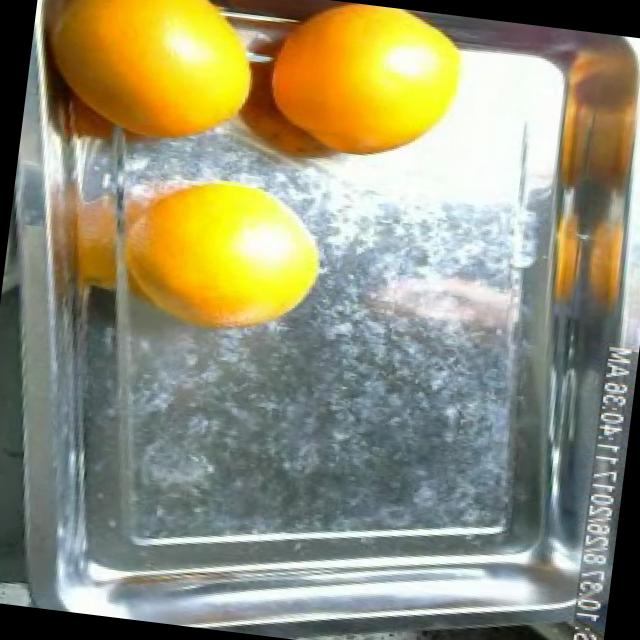Fruit: (109, 148, 354, 360)
